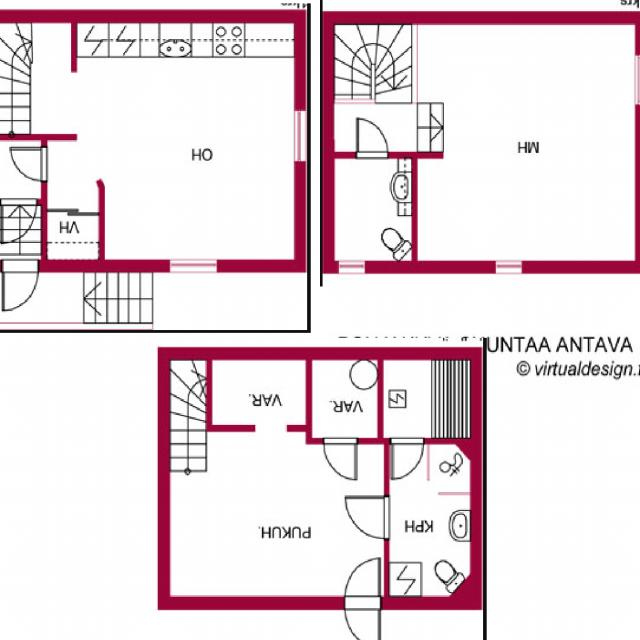door: (345, 558, 380, 610), (3, 259, 38, 311), (346, 497, 390, 538), (1, 198, 37, 245), (345, 597, 380, 640), (323, 437, 356, 479), (392, 436, 424, 478), (10, 147, 47, 181), (357, 118, 387, 158)
